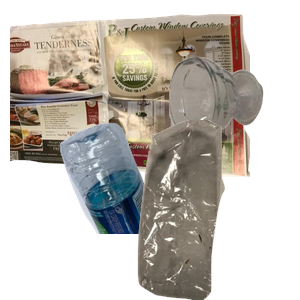glass: (166, 54, 300, 189)
paper: (10, 11, 250, 180)
plastic: (57, 120, 284, 300)
trash: (114, 120, 300, 300)
